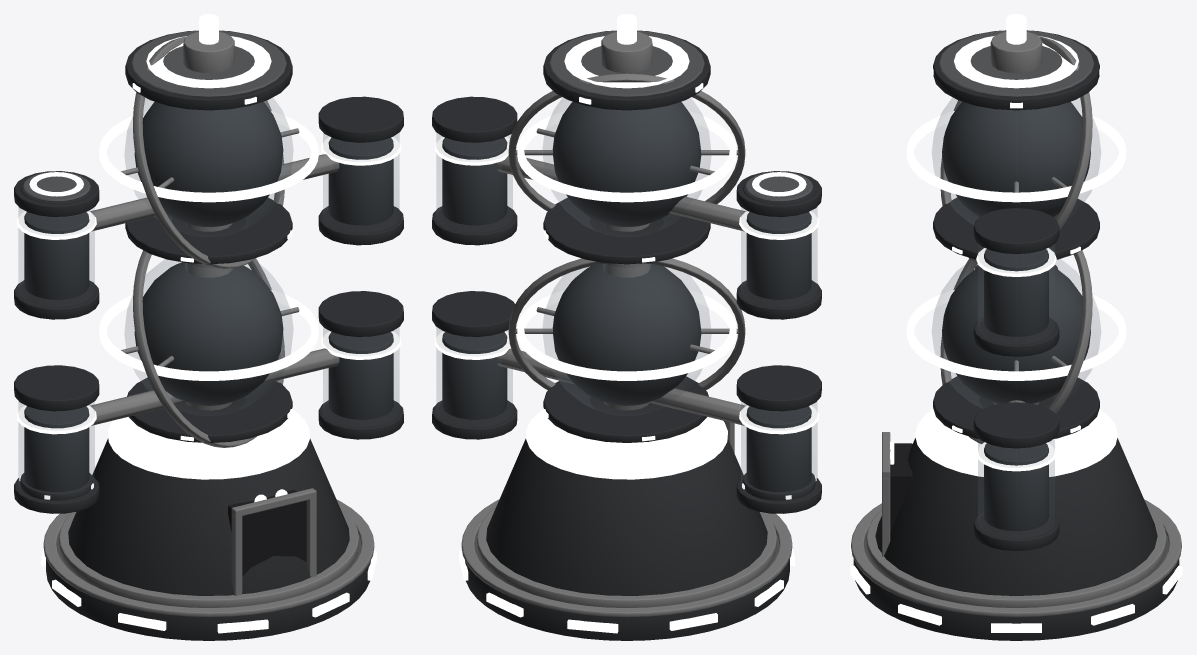
File: Skin_Reactor_T3.glb
The picture shows the model from 3 angles, left to right: view 1: azimuth 30°, elevation 25°; view 2: azimuth 150°, elevation 25°; view 3: azimuth 270°, elevation 25°; orthographic projection.
Parts seen in each view (by area): view 1: Skin_Reactor_T3; view 2: Skin_Reactor_T3; view 3: Skin_Reactor_T3.
Part boxes in pixels (x1,y1,x2,y2): Skin_Reactor_T3: (14,14,403,640); Skin_Reactor_T3: (432,14,821,640); Skin_Reactor_T3: (850,14,1182,640).
Bounding box in the file's own units: 5.1 × 7.14 × 3.87.
